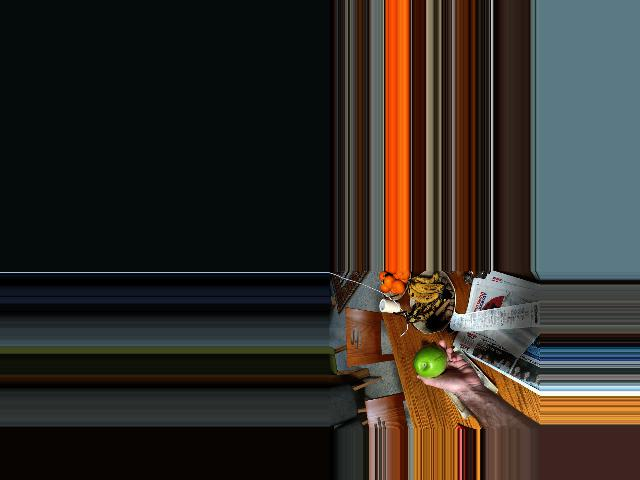apple: (412, 343, 448, 377)
